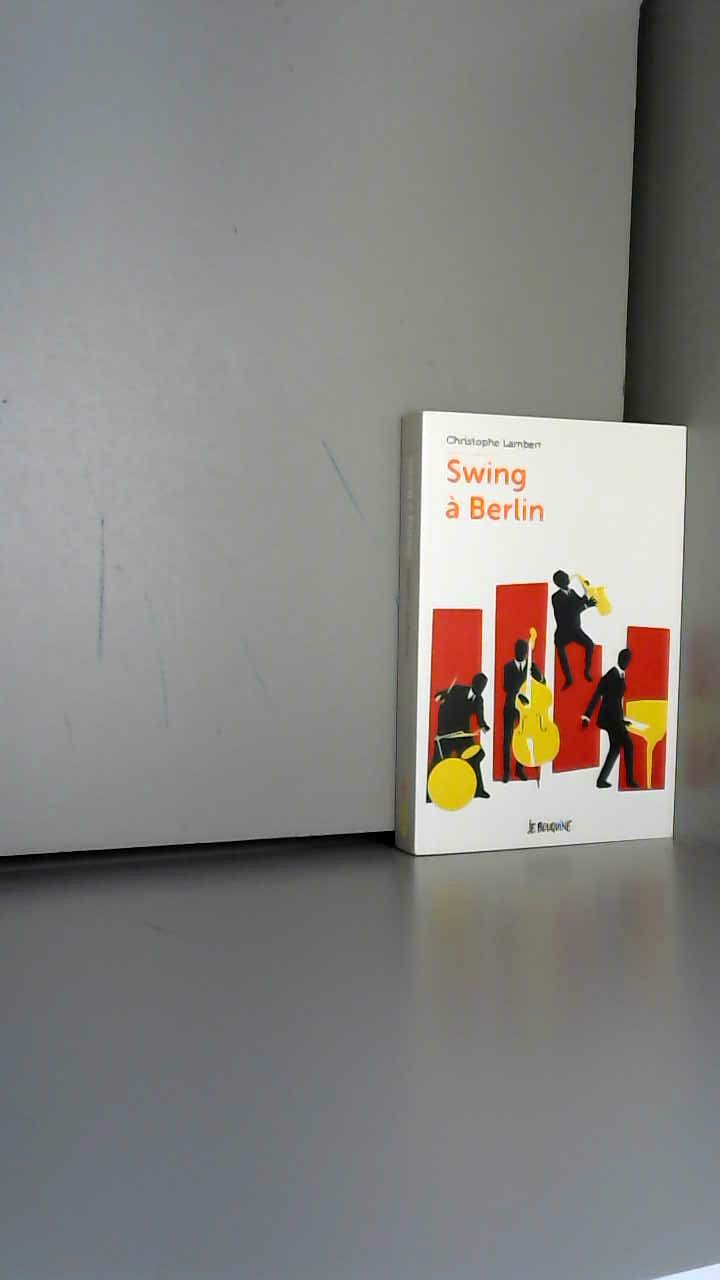book: (390, 380, 720, 921)
